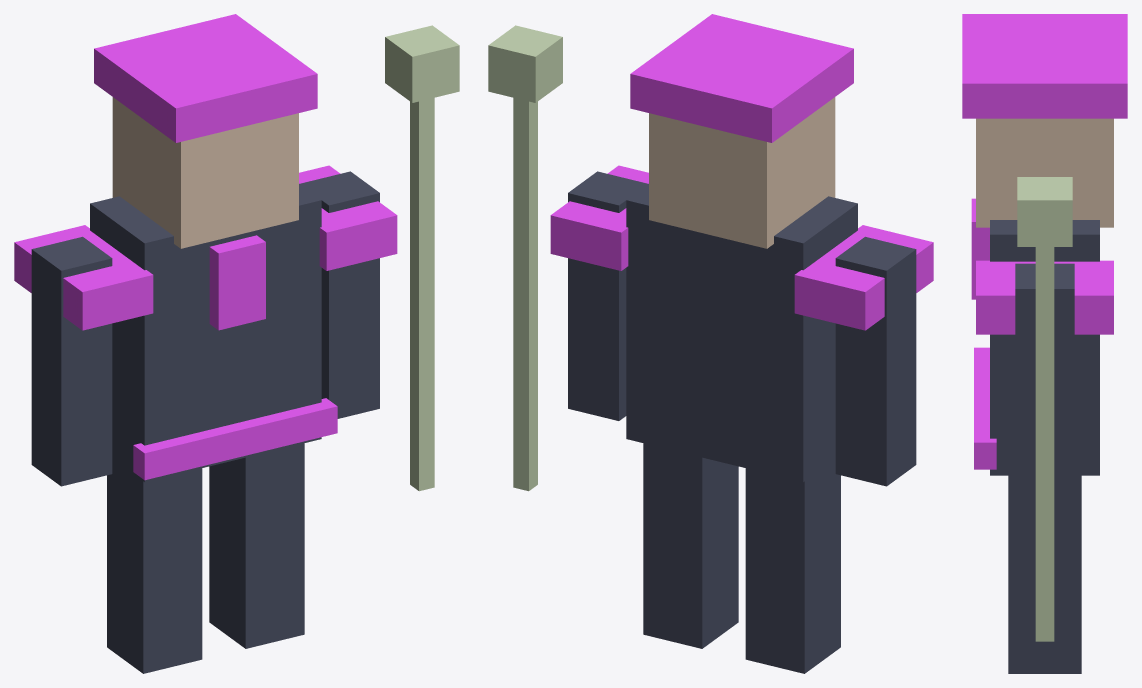
File: 20_tamsin_wayfare_custodian_under_maintenance.glb
3 views of the same model, side by side, from view 1: azimuth 30°, elevation 25°; view 2: azimuth 150°, elevation 25°; view 3: azimuth 270°, elevation 25° (orthographic).
Parts seen in each view (by area): view 1: Tamsin Wayfare, Custodian under Maintenance; view 2: Tamsin Wayfare, Custodian under Maintenance; view 3: Tamsin Wayfare, Custodian under Maintenance.
Boxes of the visible parts, left/top/right/bottom form: Tamsin Wayfare, Custodian under Maintenance: left=14, top=14, right=459, bottom=673; Tamsin Wayfare, Custodian under Maintenance: left=488, top=14, right=933, bottom=673; Tamsin Wayfare, Custodian under Maintenance: left=962, top=14, right=1127, bottom=673.
Bounding box in the file's own units: 1.04 × 1.45 × 0.37.
